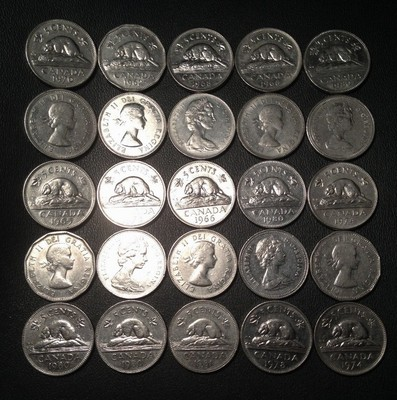coin: (314, 302, 386, 375), (241, 300, 312, 373), (22, 302, 93, 375), (95, 300, 166, 373), (168, 300, 238, 372), (23, 160, 95, 229), (24, 89, 96, 158), (238, 229, 308, 298), (310, 231, 380, 300), (24, 231, 94, 300), (25, 19, 96, 87), (96, 229, 165, 298), (168, 229, 236, 298), (308, 162, 377, 229), (97, 160, 165, 227), (167, 160, 235, 227), (237, 160, 305, 227), (98, 24, 165, 90), (98, 92, 165, 158), (306, 95, 374, 160), (237, 93, 304, 158), (168, 93, 234, 158), (235, 28, 301, 91), (167, 28, 233, 91), (303, 30, 369, 92)
